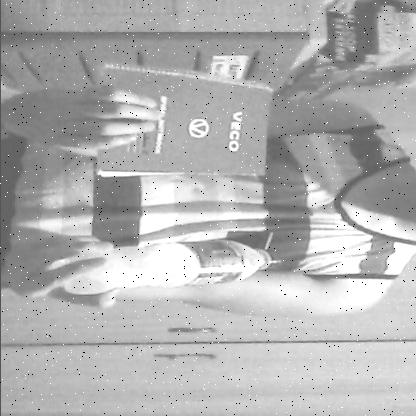Plastic Bottle: (45, 238, 291, 297)
